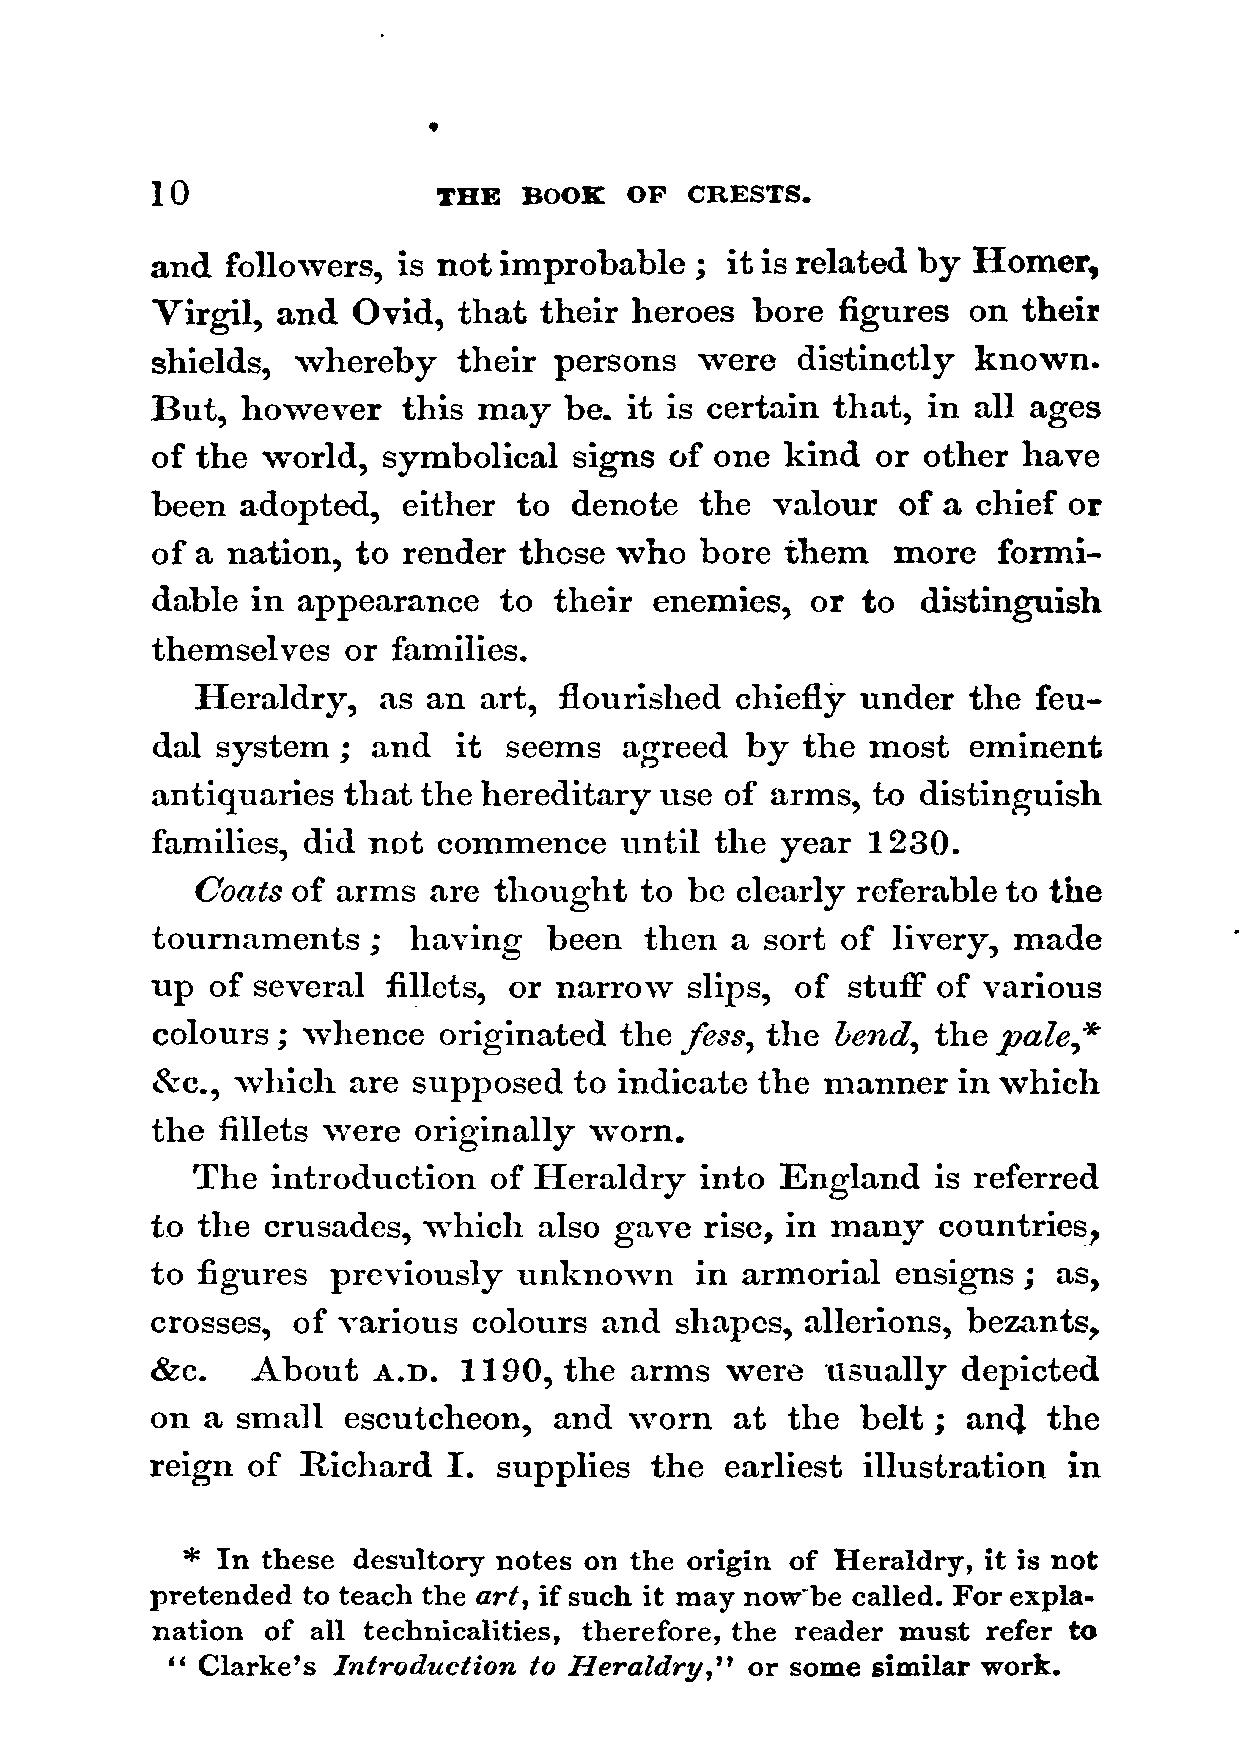content: (138, 247, 1106, 1686)
content_chapter: (429, 183, 811, 212)
content_pagenumber: (144, 172, 193, 209)
